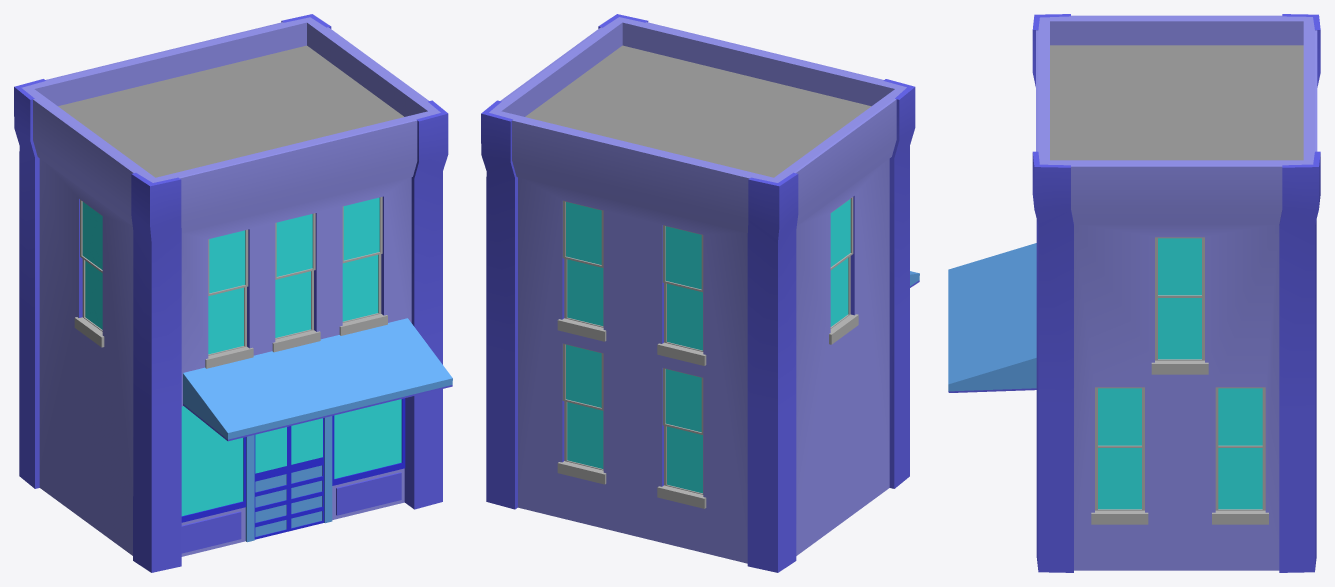
The model's file is SM_House_01_02.FBX.
The picture shows the model from 3 angles, left to right: view 1: azimuth 30°, elevation 25°; view 2: azimuth 150°, elevation 25°; view 3: azimuth 270°, elevation 25°; orthographic projection. The views are drawn at different scales.
Parts seen in each view (by area): view 1: SM_House_01_02; view 2: SM_House_01_02; view 3: SM_House_01_02.
Part boxes in pixels (x1,y1,x2,y2): SM_House_01_02: (14, 14, 452, 572); SM_House_01_02: (481, 14, 919, 572); SM_House_01_02: (948, 14, 1320, 572).
Size of the model in its own units: 5.42 by 6.69 by 5.55.
1 material, 1 textured.
